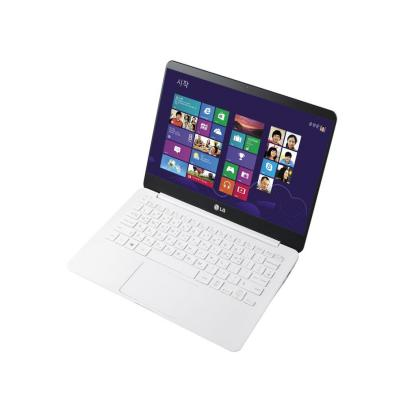board: (67, 57, 338, 354)
